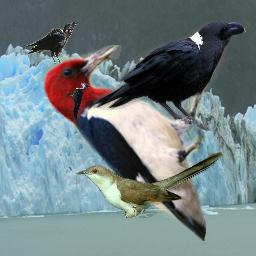Crow: (93, 21, 247, 132), (24, 22, 78, 64)
Cuckoo: (76, 151, 223, 218)
Woodpecker: (41, 45, 206, 241), (65, 82, 90, 120)
